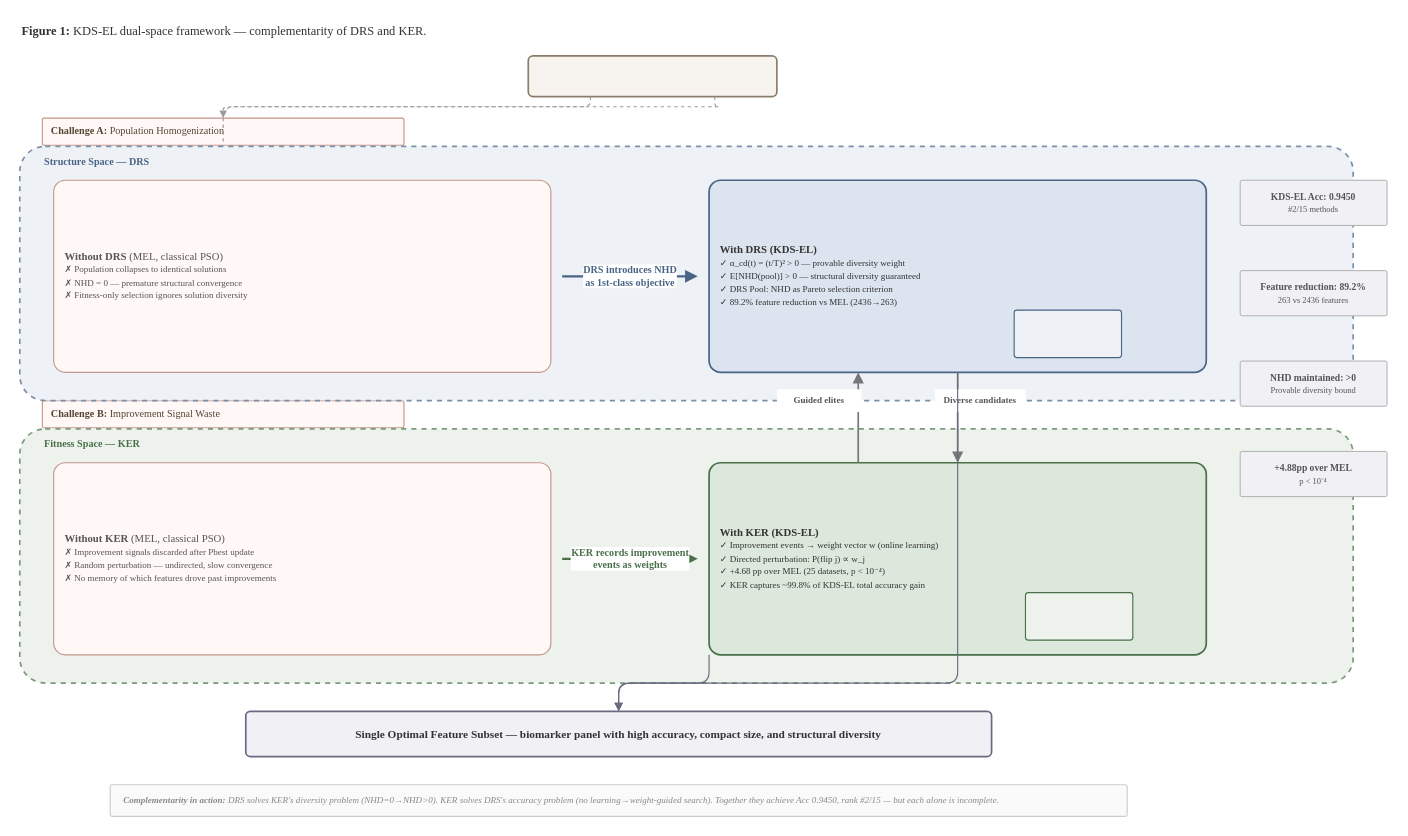
This 1408x836 diagram has some shape labels left out. Here are the shapes that lost their labels. From the top down, the centre of each, then its label:
At point 652,76: "High-Dimensional Data (d >> n)".
At point 1067,333: "Prop. 1 E[NHD(pool)] > 0 diversity lower bound".
At point 1078,616: "Prop. 2 P(flip j) ≥ (1/N)(w_j/Σw)·p_mut any subset reachable".
